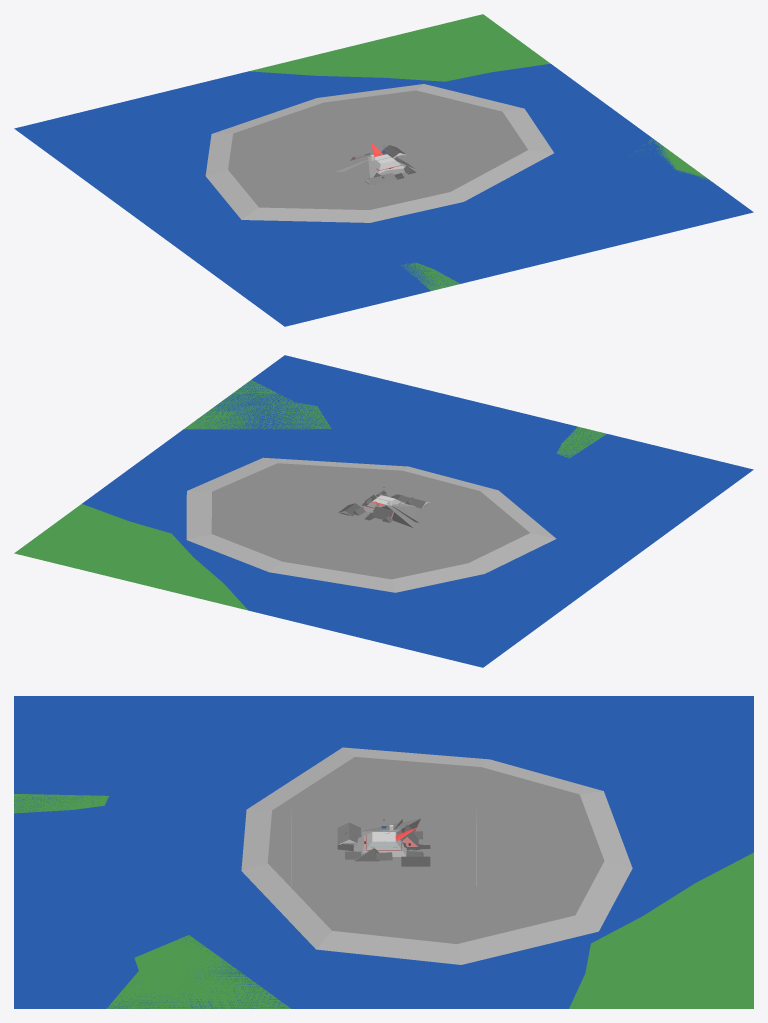
3 renders of one model, top to bottom at view 1: azimuth 30°, elevation 25°; view 2: azimuth 150°, elevation 25°; view 3: azimuth 270°, elevation 25°, orthographic. The views are drawn at different scales.
Visible parts, largest first — view 1: pg_005_lod0, pg_021_lod0, pg_008_lod0, pg_007_lod0, pg_001_lod0, pg_010_lod0, pg_009_lod0; view 2: pg_005_lod0, pg_021_lod0, pg_008_lod0, pg_007_lod0, pg_001_lod0, pg_040_lod0_s1v0; view 3: pg_005_lod0, pg_021_lod0, pg_008_lod0, pg_007_lod0, pg_001_lod0, pg_043_lod0_s1v0, pg_040_lod0_s1v0, pg_010_lod0.
Part boxes in pixels (bbox=[...]): pg_005_lod0: bbox=[14, 64, 550, 297]; pg_021_lod0: bbox=[205, 84, 553, 222]; pg_008_lod0: bbox=[249, 14, 719, 229]; pg_007_lod0: bbox=[217, 14, 753, 326]; pg_001_lod0: bbox=[401, 138, 710, 290]; pg_010_lod0: bbox=[327, 156, 404, 178]; pg_009_lod0: bbox=[400, 262, 459, 290]; pg_005_lod0: bbox=[82, 429, 685, 667]; pg_021_lod0: bbox=[186, 457, 556, 592]; pg_008_lod0: bbox=[14, 380, 433, 610]; pg_007_lod0: bbox=[15, 355, 753, 553]; pg_001_lod0: bbox=[184, 380, 606, 458]; pg_040_lod0_s1v0: bbox=[338, 495, 429, 519]; pg_005_lod0: bbox=[14, 696, 753, 1008]; pg_021_lod0: bbox=[241, 747, 632, 964]; pg_008_lod0: bbox=[108, 852, 753, 1008]; pg_007_lod0: bbox=[14, 696, 753, 1008]; pg_001_lod0: bbox=[14, 794, 290, 1008]; pg_043_lod0_s1v0: bbox=[362, 832, 406, 856]; pg_040_lod0_s1v0: bbox=[337, 822, 418, 846]; pg_010_lod0: bbox=[353, 818, 420, 853].
Size of what is drawn, in the model's own units: 4096 by 200 by 4096.
